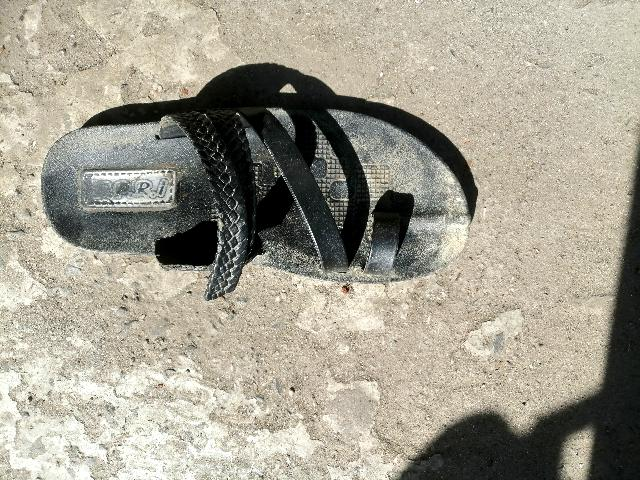sandal: (34, 108, 499, 297)
